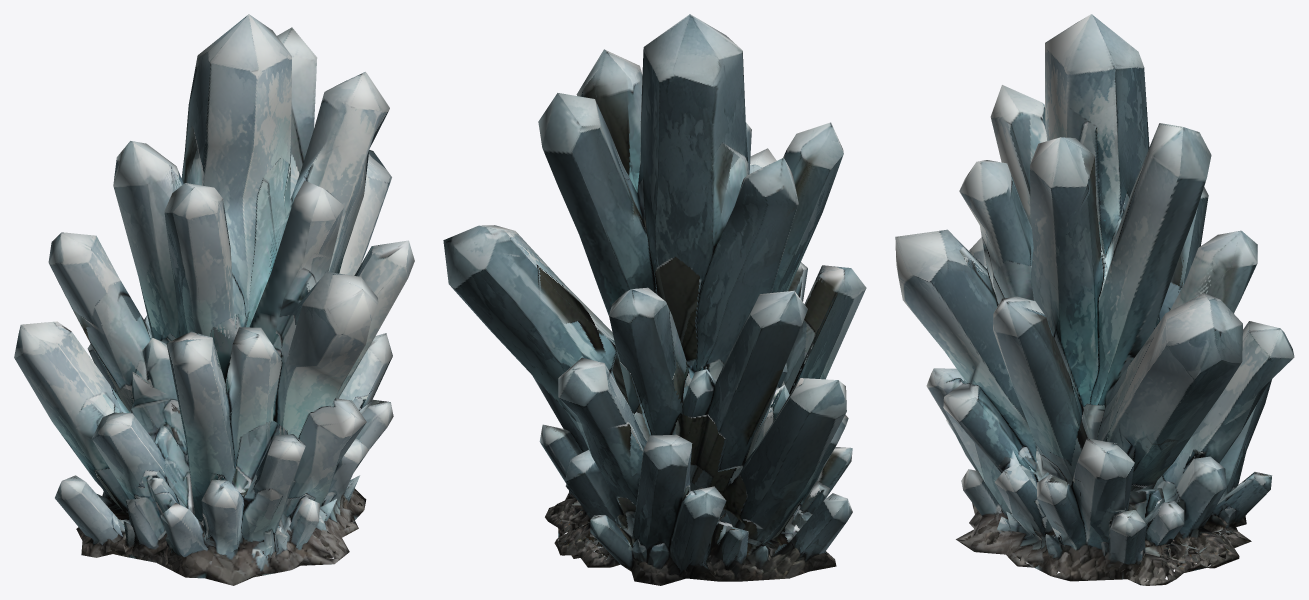
File: PR_IceCrystal_Large.fbx
3 views of the same model, side by side, from view 1: azimuth 30°, elevation 25°; view 2: azimuth 150°, elevation 25°; view 3: azimuth 270°, elevation 25° (orthographic). The views are drawn at different scales.
Visible parts, largest first — view 1: texture_mapping; view 2: texture_mapping; view 3: texture_mapping.
Part boxes in pixels (x1,y1,x2,y2): texture_mapping: (14,14,414,585); texture_mapping: (443,14,866,585); texture_mapping: (895,14,1294,585).
Bounding box in the file's own units: 0.7752 × 0.6869 × 1.
1 material, 1 textured.
